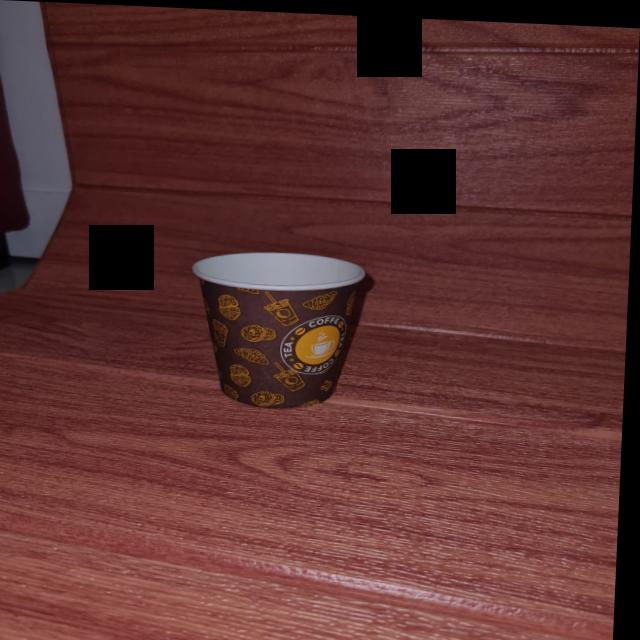cups: (189, 244, 376, 406)
